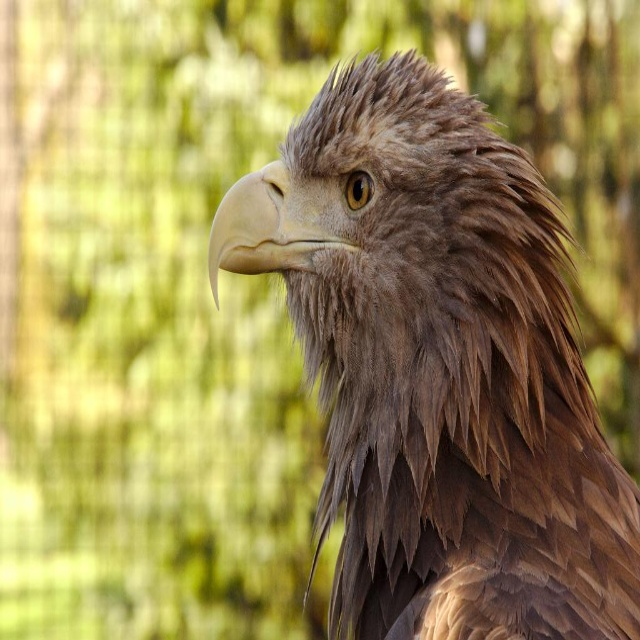Eagle: (202, 40, 640, 639)
